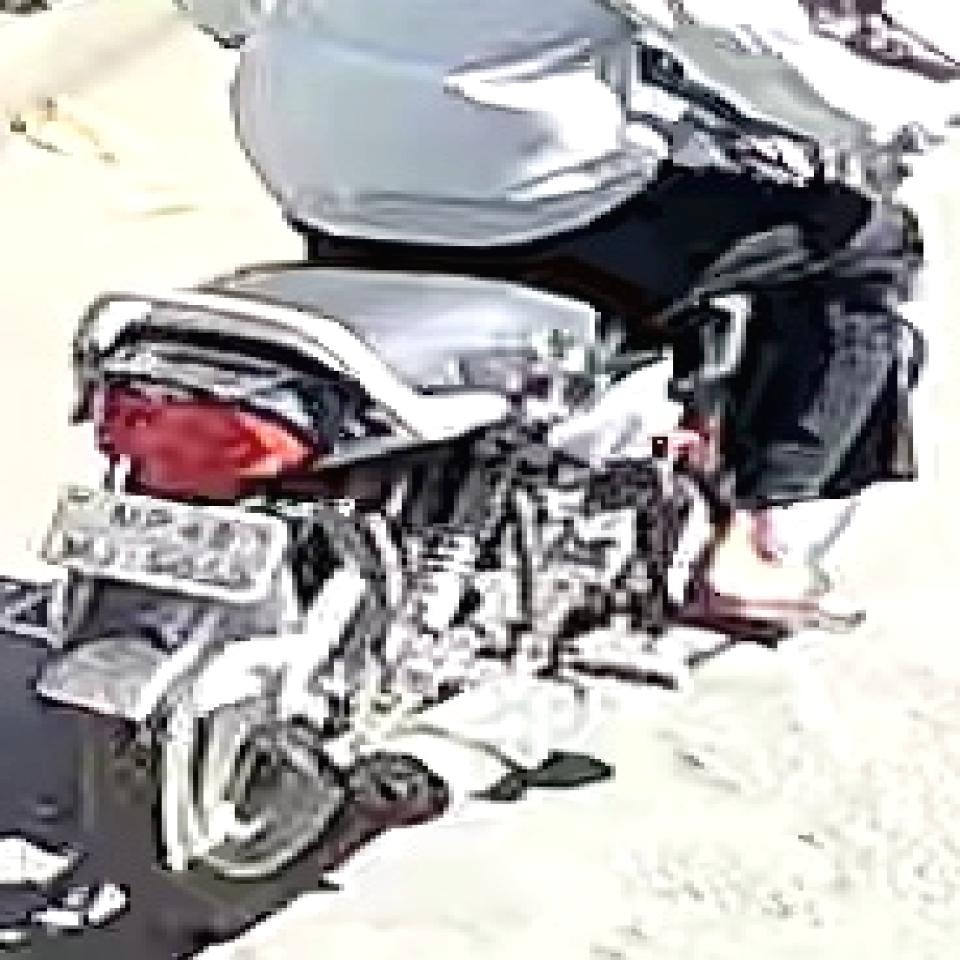tail_light: (91, 386, 306, 484)
